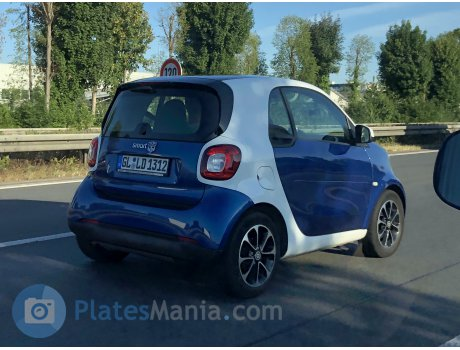License Plates: (123, 154, 167, 169)
